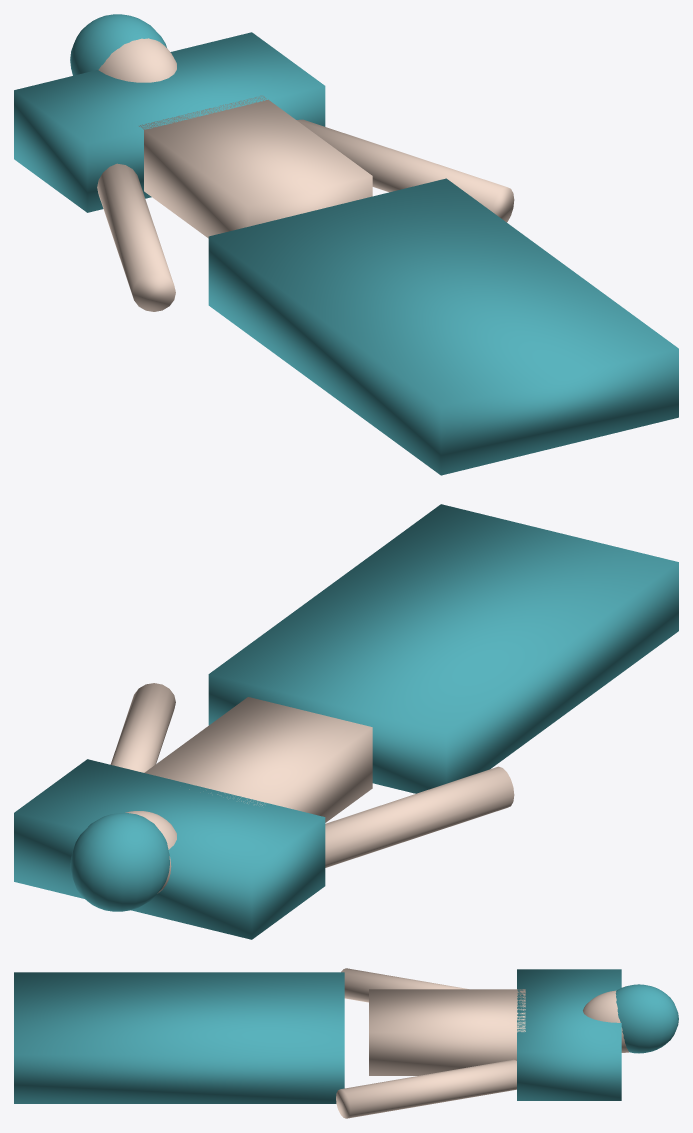
The model's file is Character_Patient_OperatingTable.glb.
3 renders of one model, top to bottom at view 1: azimuth 30°, elevation 25°; view 2: azimuth 150°, elevation 25°; view 3: azimuth 270°, elevation 25°, orthographic. The views are drawn at different scales.
Parts seen in each view (by area): view 1: Character_Patient_OperatingTable; view 2: Character_Patient_OperatingTable; view 3: Character_Patient_OperatingTable.
Part boxes in pixels (x1,y1,x2,y2): Character_Patient_OperatingTable: (14,14,678,475); Character_Patient_OperatingTable: (14,504,678,939); Character_Patient_OperatingTable: (14,968,678,1118).
Size of the model in its own units: 0.9909 by 0.2613 by 2.1.
